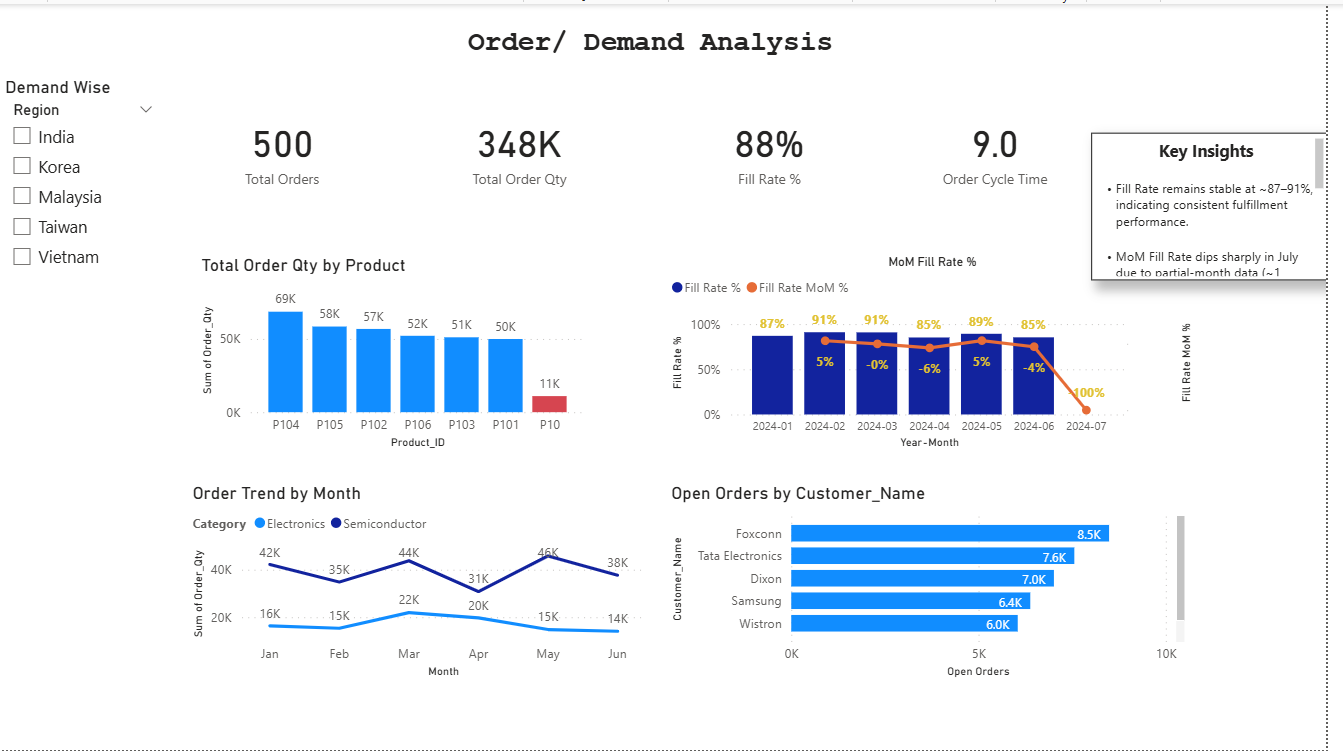

The page's visual inventory and layout, read from the dashboard file:
{"tool":"powerbi","page":{"name":"Demand/Order Analysis","canvas":[1280,720],"ordinal":0},"visuals":[{"type":"card","fields":{"Values":["_Measures.Total Orders"]},"box":[202.3,99.3,139.3,83.6],"z":0},{"type":"card","fields":{"Values":["_Measures.Total Order Qty"]},"box":[432.5,99.3,136.9,83.6],"z":1000},{"type":"card","fields":{"Values":["_Measures.Fill Rate %"]},"box":[674.8,99.3,136.9,83.6],"z":2000},{"type":"card","fields":{"Values":["_Measures.Order Cycle Time"]},"box":[900.1,99.3,121.1,83.6],"z":3000},{"type":"clusteredColumnChart","title":"Total Order Qty by Product","fields":{"Category":["Orders_Data.Product_ID"],"Y":["Sum(Orders_Data.Order_Qty)"]},"box":[189,241.1,380.4,192.6],"z":4000},{"type":"lineChart","title":"Order Trend by Month","fields":{"Category":["Date_Table.Month"],"Y":["Sum(Orders_Data.Order_Qty)"],"Series":["Product_Master.Category"]},"box":[180.5,461.6,447,192.6],"z":5000},{"type":"slicer","title":"Demand Wise ","fields":{"Values":["Dim_Region.Region"]},"box":[0,70,160,196],"z":6000},{"type":"textbox","box":[0,17,1255.1,44.8],"z":7000},{"type":"barChart","fields":{"Category":["Orders_Data.Customer_Name"],"Y":["_Measures.Open Orders"]},"box":[643.3,461.6,505.2,192.6],"z":8000},{"type":"lineClusteredColumnComboChart","title":"MoM Fill Rate %","fields":{"Category":["Date_Table.Year-Month"],"Y":["_Measures.Fill Rate %"],"Y2":["_Measures.Fill Rate MoM %"]},"box":[643.3,241.1,513.7,192.6],"z":9000},{"type":"textbox","box":[1052.9,124.2,227.9,142.3],"z":10000}]}

Visuals, with their boxes in screenshot pixels (x1, y1, x2, y2), scaled from the page's 1280x720 canvas onto the 1343x751 screenshot:
card - _Measures.Total Orders: box=[212, 104, 358, 191]
card - _Measures.Total Order Qty: box=[454, 104, 597, 191]
card - _Measures.Fill Rate %: box=[708, 104, 852, 191]
card - _Measures.Order Cycle Time: box=[944, 104, 1071, 191]
"Total Order Qty by Product" clusteredColumnChart: box=[198, 251, 597, 452]
"Order Trend by Month" lineChart: box=[189, 481, 658, 682]
"Demand Wise " slicer: box=[0, 73, 168, 277]
textbox: box=[0, 18, 1317, 64]
barChart - Orders_Data.Customer_Name x _Measures.Open Orders: box=[675, 481, 1205, 682]
"MoM Fill Rate %" lineClusteredColumnComboChart: box=[675, 251, 1214, 452]
textbox: box=[1105, 130, 1342, 278]
